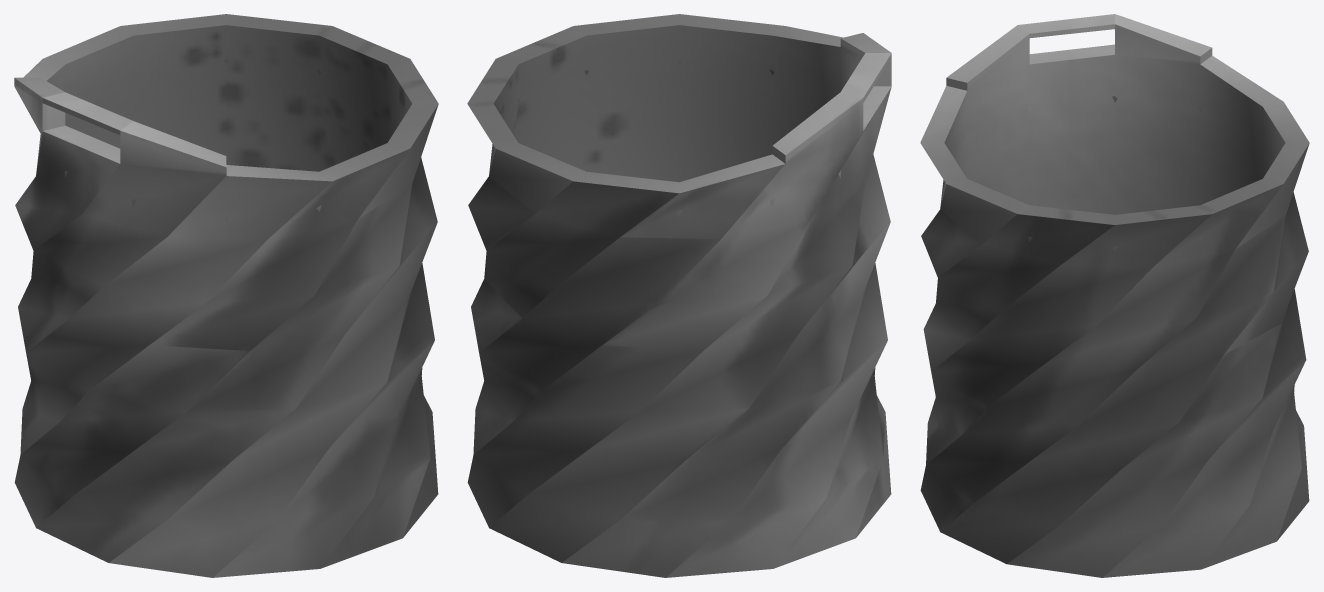
File: hamper.fbx
3 views of the same model, side by side, from view 1: azimuth 30°, elevation 25°; view 2: azimuth 150°, elevation 25°; view 3: azimuth 270°, elevation 25° (orthographic). The views are drawn at different scales.
Visible parts, largest first — view 1: polySurface493; view 2: polySurface493; view 3: polySurface493.
Part boxes in pixels (<box>): polySurface493: <box>14,14,438,577</box>; polySurface493: <box>467,14,891,577</box>; polySurface493: <box>920,14,1309,577</box>.
Bounding box in the file's own units: 0.6764 × 0.7656 × 0.6764.
Materials: 1 (1 with a texture image).
